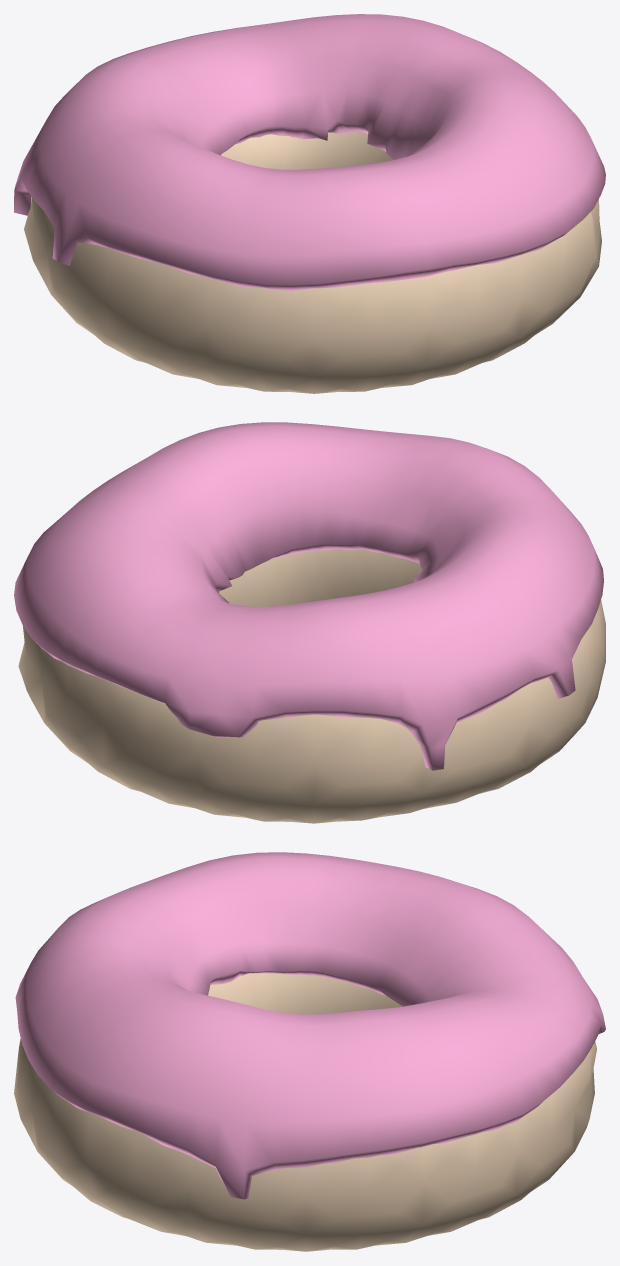
The model's file is doughnut_decimate.fbx.
The picture shows the model from 3 angles, top to bottom: view 1: azimuth 30°, elevation 25°; view 2: azimuth 150°, elevation 25°; view 3: azimuth 270°, elevation 25°; orthographic projection. The views are drawn at different scales.
Parts seen in each view (by area): view 1: Icing.002, Doughnut.002; view 2: Icing.002, Doughnut.002; view 3: Icing.002, Doughnut.002.
Part boxes in pixels (box(x1,y1,x2,y2)): Icing.002: box(14, 14, 605, 290); Doughnut.002: box(24, 132, 601, 393); Icing.002: box(14, 422, 603, 770); Doughnut.002: box(18, 549, 605, 823); Icing.002: box(15, 852, 605, 1199); Doughnut.002: box(14, 973, 596, 1251).
Size of what is drawn, in the model's own units: 15.23 by 6.23 by 15.01.
